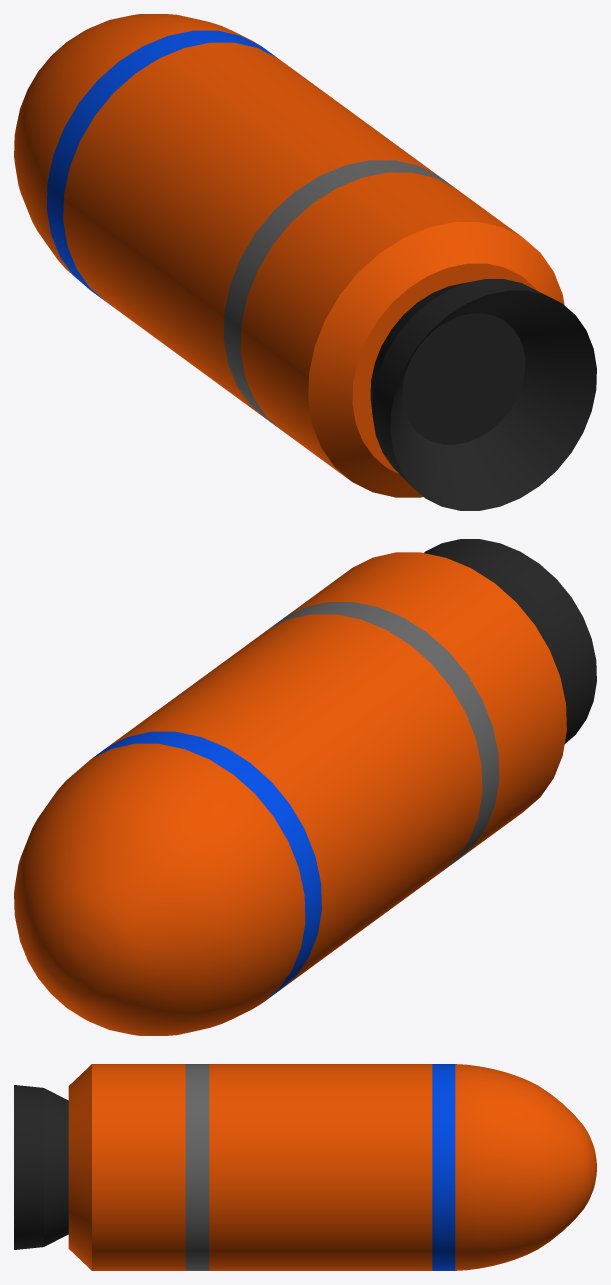
Rendered from Rocket Engine (1).fbx.
The picture shows the model from 3 angles, top to bottom: view 1: azimuth 30°, elevation 25°; view 2: azimuth 150°, elevation 25°; view 3: azimuth 270°, elevation 25°; orthographic projection. The views are drawn at different scales.
Visible parts, largest first — view 1: Engine (5); view 2: Engine (5); view 3: Engine (5).
Part boxes in pixels (<box>): Engine (5): <box>14,14,596,510</box>; Engine (5): <box>14,539,596,1035</box>; Engine (5): <box>14,1064,596,1270</box>.
Size of the model in its own units: 79.83 by 79.3 by 224.
